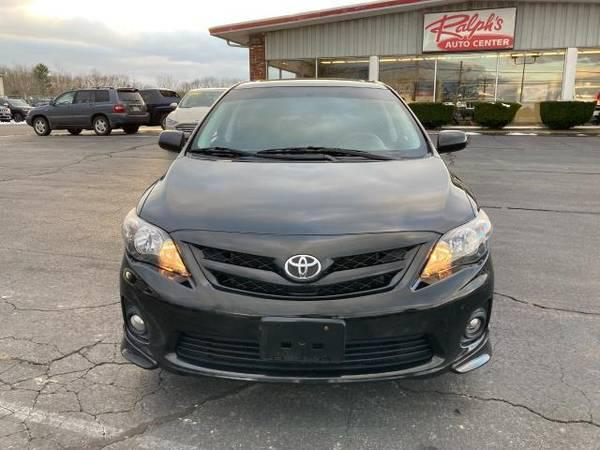Front_Bumper: (116, 253, 492, 384)
Front_Windshield: (187, 81, 436, 164)
Grille: (170, 229, 441, 300)
Hood: (135, 152, 478, 233)
Left_Headlight: (416, 208, 495, 288)
Left_Mirror: (436, 127, 468, 152)
Right_Headlight: (119, 210, 191, 277)
Right_Mirror: (158, 129, 184, 155)
